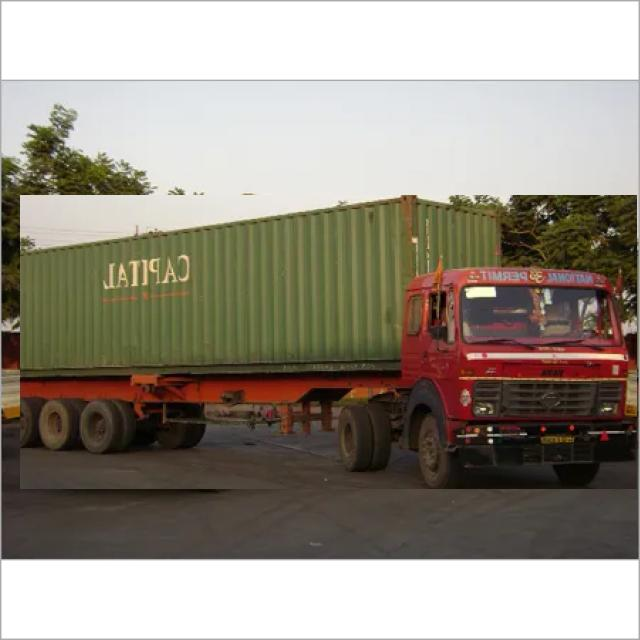truck: (21, 195, 637, 489)
